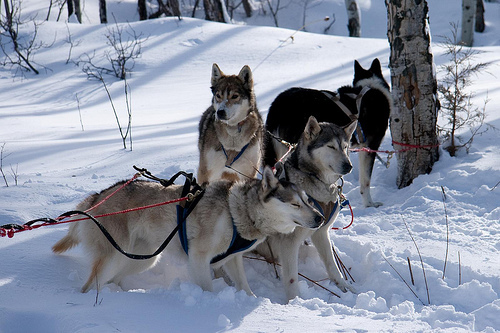dog: (50, 162, 326, 297), (272, 114, 360, 296), (196, 62, 265, 182), (353, 60, 391, 206)
